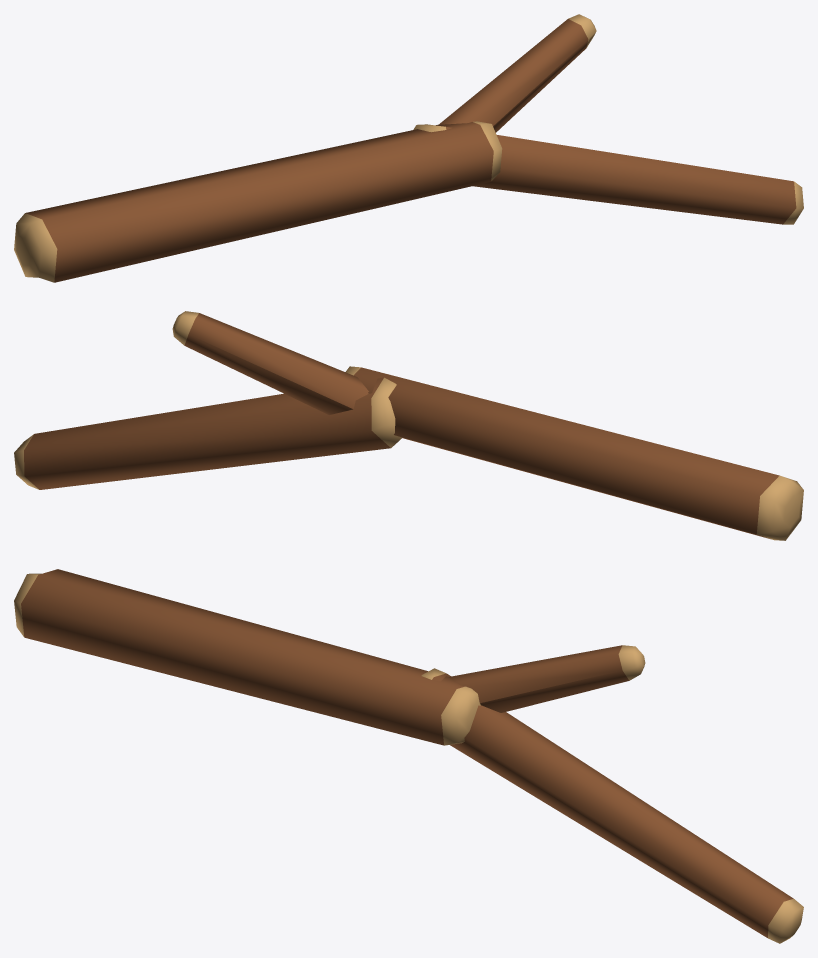
File: stick_2.glb
3 renders of one model, top to bottom at view 1: azimuth 30°, elevation 25°; view 2: azimuth 150°, elevation 25°; view 3: azimuth 330°, elevation 25°, orthographic.
Parts seen in each view (by area): view 1: Prop; view 2: Prop; view 3: Prop.
Boxes of the visible parts, x1,y1,x2,y2 form: Prop: (14,14,803,282); Prop: (14,311,803,540); Prop: (14,569,803,943).
Bounding box in the file's own units: 0.9941 × 0.2844 × 0.1318.
